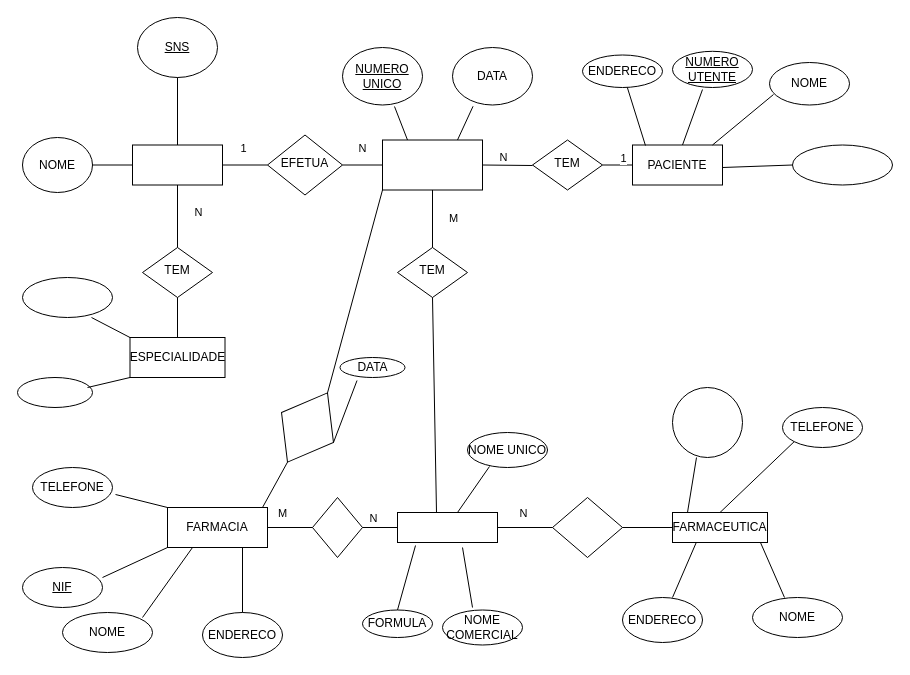
Some shapes in this 910 by 675 pixel diagram are drawn without their labels. The shapes that lost their labels are listed below. From the top down, each one's centre as x and y in pixels, then its label:
At pixel 177 164: "MEDICO".
At pixel 432 164: "PRESCRICAO".
At pixel 842 164: "DATA NASCIMENTO".
At pixel 67 297: "DESIGNACAO".
At pixel 54 392: "CODIGO".
At pixel 307 427: "PROCESSA".
At pixel 707 422: "NUMERO REGISTO NACIONAL".
At pixel 337 527: "VENDE".
At pixel 447 527: "FARMACO".
At pixel 587 527: "PRODUZ".
